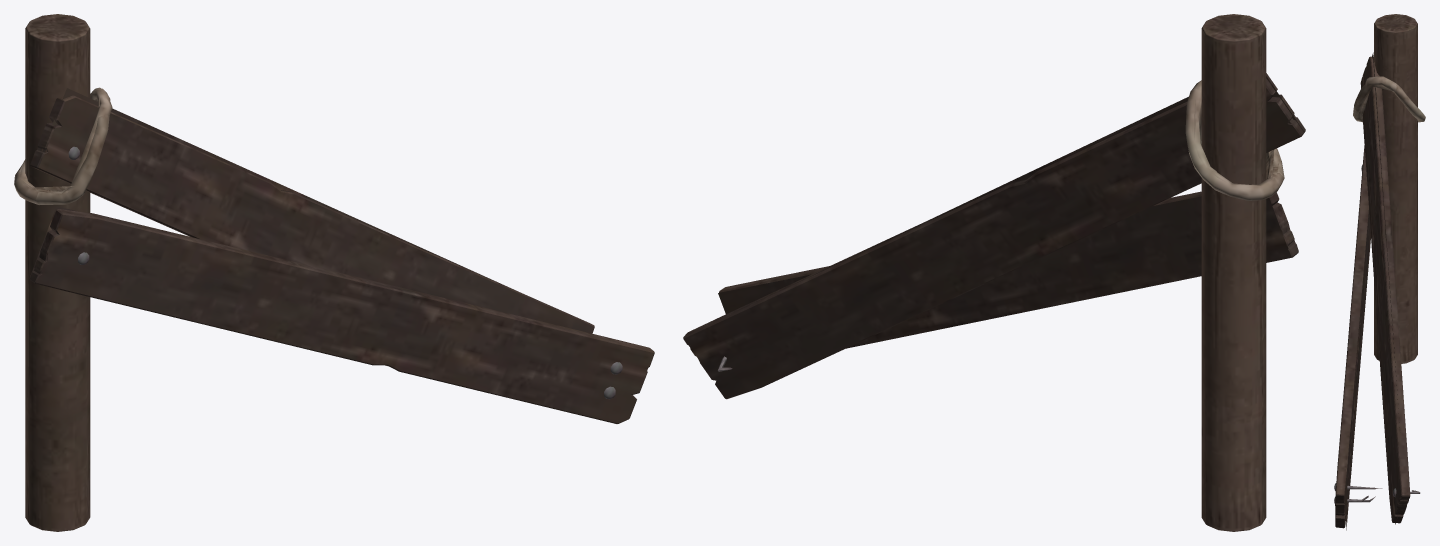
File: Fence05.glb
The picture shows the model from 3 angles, left to right: view 1: azimuth 30°, elevation 25°; view 2: azimuth 150°, elevation 25°; view 3: azimuth 270°, elevation 25°; orthographic projection. The views are drawn at different scales.
Parts seen in each view (by area): view 1: FenceE; view 2: FenceE; view 3: FenceE.
Part boxes in pixels (bbox=[...]): FenceE: bbox=[14, 14, 654, 531]; FenceE: bbox=[683, 14, 1305, 531]; FenceE: bbox=[1334, 14, 1425, 530].
Bounding box in the file's own units: 1.52 × 1.2 × 0.297.
Materials: 2 (2 with a texture image).
